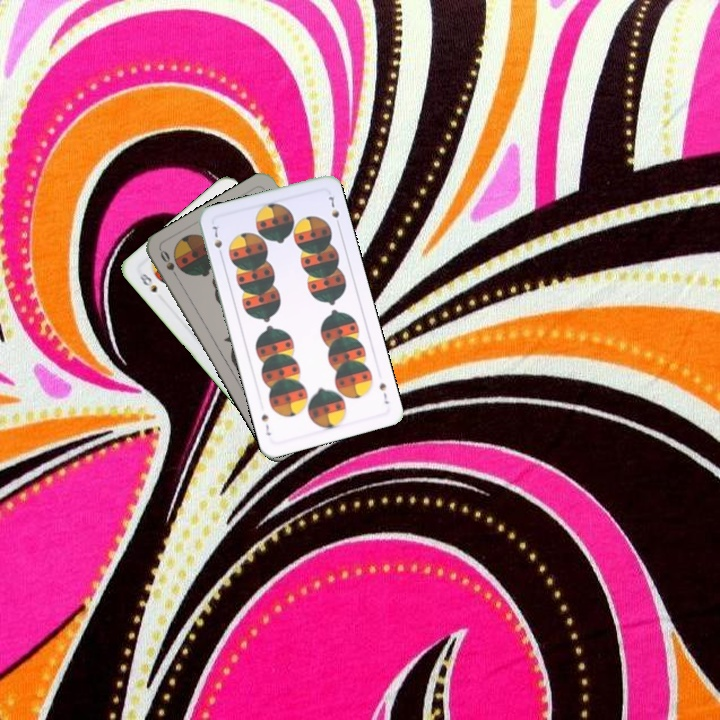S7: (208, 222, 225, 260), (375, 379, 392, 407)
S8: (135, 269, 160, 295)
SO: (156, 246, 182, 284)
